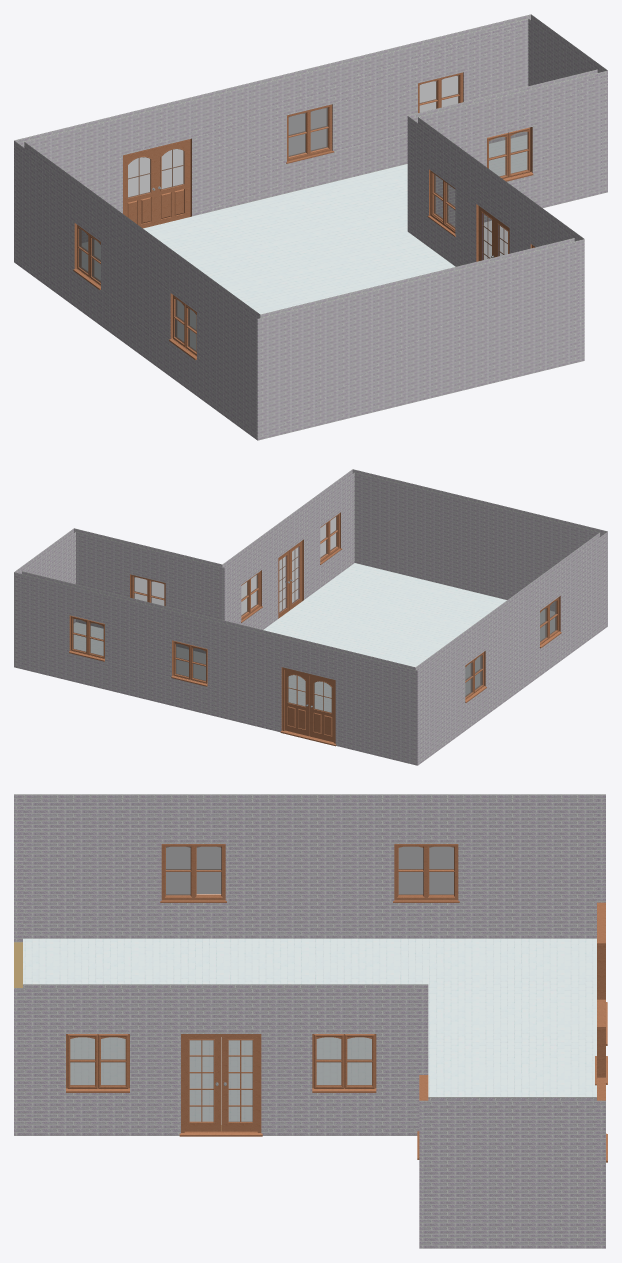
File: telhado34a.gltf
3 views of the same model, one above another, from view 1: azimuth 30°, elevation 25°; view 2: azimuth 150°, elevation 25°; view 3: azimuth 270°, elevation 25° (orthographic). The views are drawn at different scales.
Bounding box in the file's own units: 13.64 × 3.06 × 11.14.
7 materials, 4 textured.
